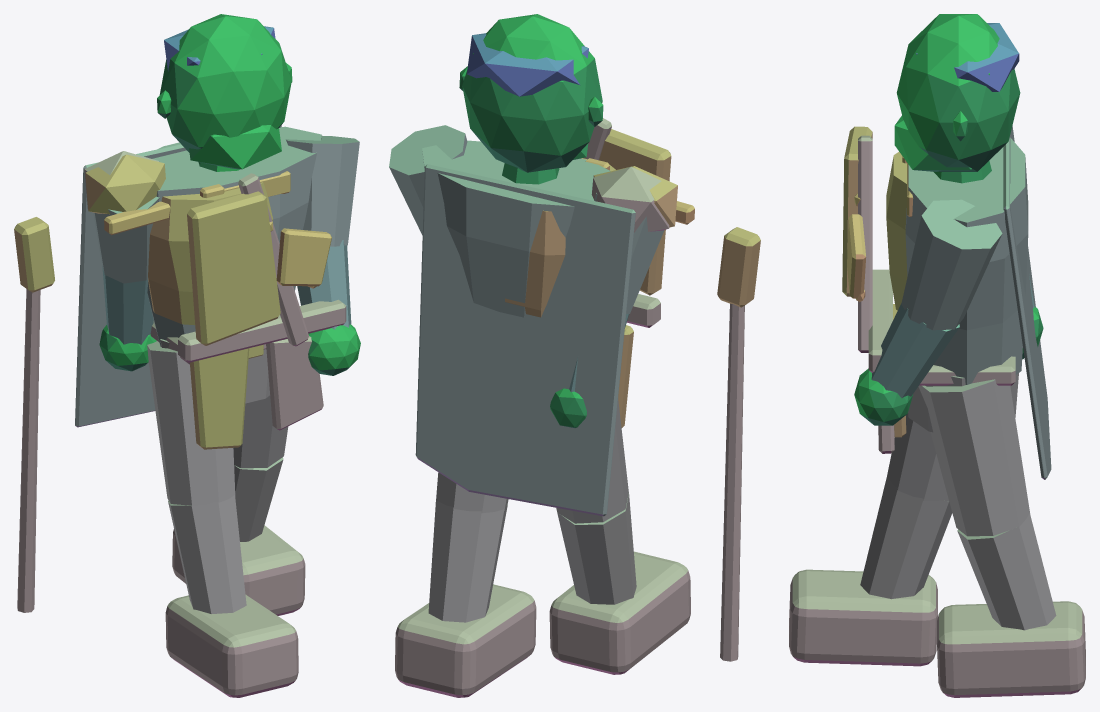
The model's file is npc_raider_down_l_v01.glb.
The picture shows the model from 3 angles, left to right: view 1: azimuth 30°, elevation 25°; view 2: azimuth 150°, elevation 25°; view 3: azimuth 270°, elevation 25°; orthographic projection. The views are drawn at different scales.
Parts seen in each view (by area): view 1: GEO_npc_raider_down_l_v01; view 2: GEO_npc_raider_down_l_v01; view 3: GEO_npc_raider_down_l_v01.
Part boxes in pixels (left/top/right/bottom): GEO_npc_raider_down_l_v01: left=14, top=14, right=360, bottom=697; GEO_npc_raider_down_l_v01: left=389, top=14, right=760, bottom=697; GEO_npc_raider_down_l_v01: left=789, top=14, right=1085, bottom=697.
Bounding box in the file's own units: 1.19 × 2.07 × 0.8471.
